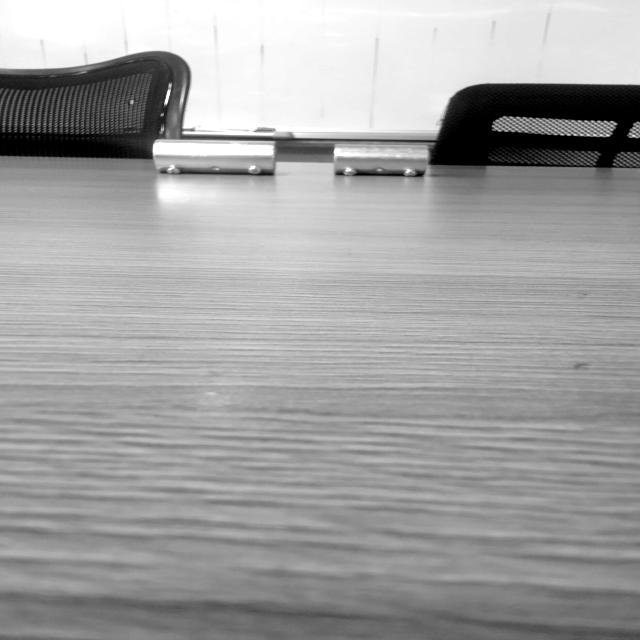Co_Lon: (153, 139, 276, 176)
Co_Nho: (333, 143, 429, 177)
